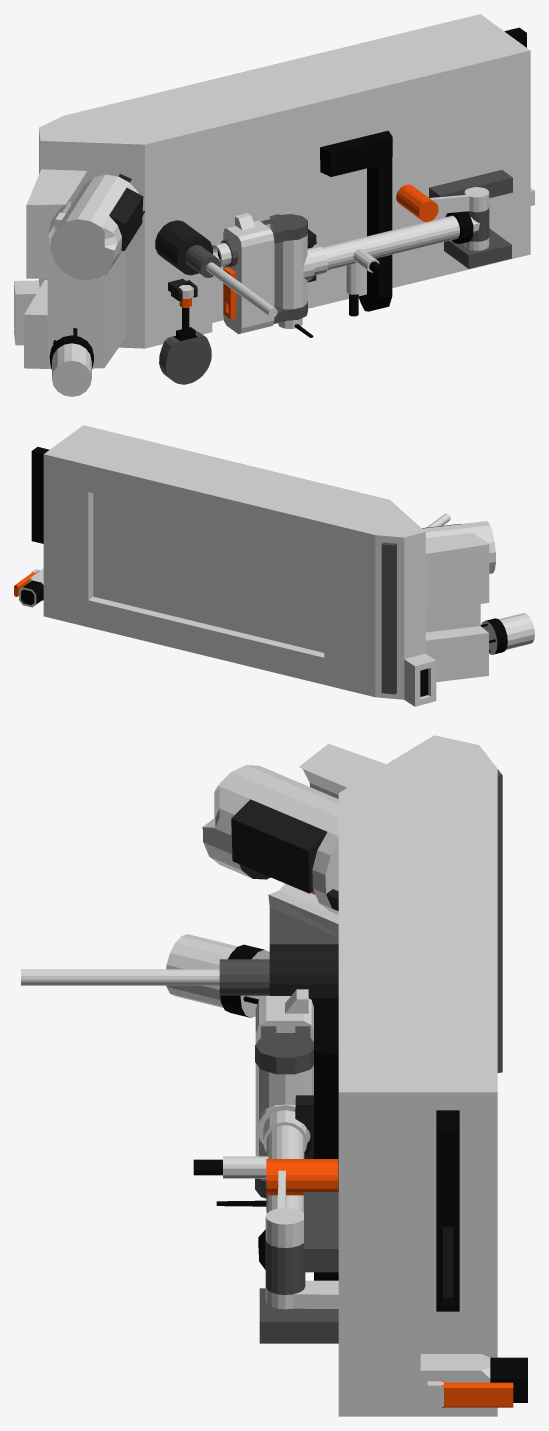
File: rover_cuerpo.obj
3 views of the same model, one above another, from view 1: azimuth 30°, elevation 25°; view 2: azimuth 150°, elevation 25°; view 3: azimuth 270°, elevation 25° (orthographic). The views are drawn at different scales.
Parts seen in each view (by area): view 1: rover_cuerpo; view 2: rover_cuerpo; view 3: rover_cuerpo.
Boxes of the visible parts, <box> form: rover_cuerpo: <box>14,14,534,396</box>; rover_cuerpo: <box>14,425,534,706</box>; rover_cuerpo: <box>21,735,527,1416</box>.
Bounding box in the file's own units: 10.27 × 4.18 × 5.1.
